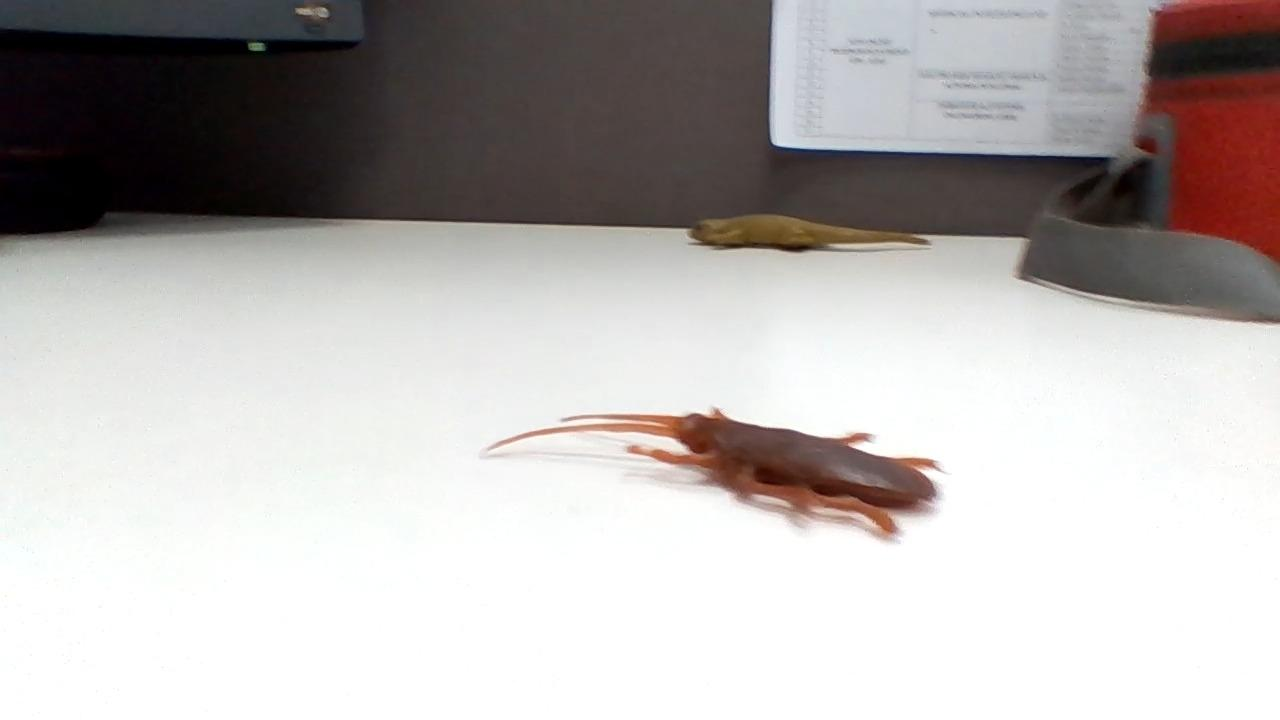cockroach: (504, 377, 941, 540)
lizard: (681, 206, 930, 255)
